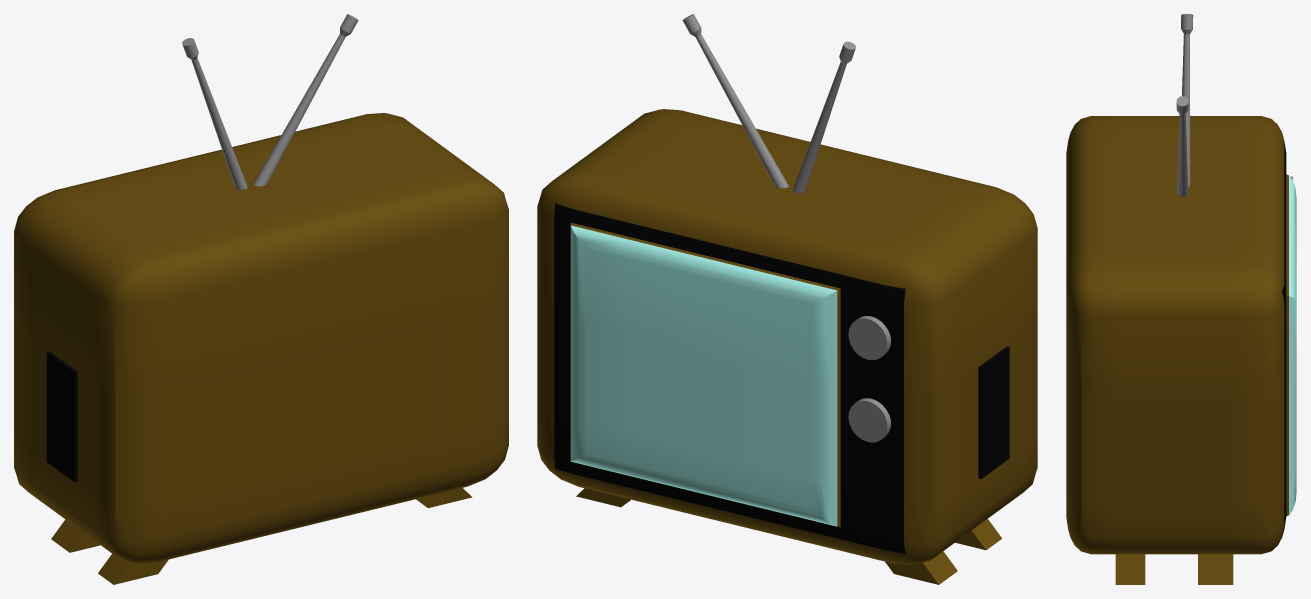
File: Fehrnsehr.fbx
3 views of the same model, side by side, from view 1: azimuth 30°, elevation 25°; view 2: azimuth 150°, elevation 25°; view 3: azimuth 270°, elevation 25° (orthographic). The views are drawn at different scales.
Visible parts, largest first — view 1: TV; view 2: TV; view 3: TV.
Part boxes in pixels (bbox=[...]): TV: bbox=[14, 14, 508, 584]; TV: bbox=[537, 14, 1037, 584]; TV: bbox=[1066, 14, 1296, 584].
Size of the model in its own units: 1.05 by 1.22 by 0.554.
